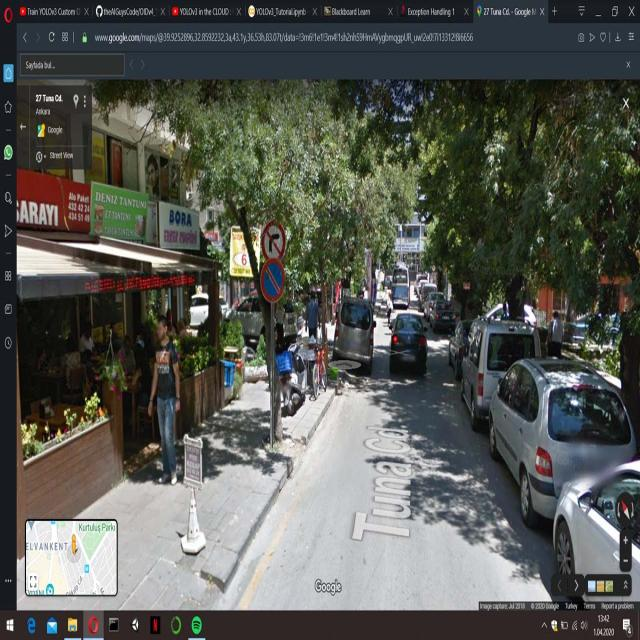parkyasak: (260, 259, 286, 302)
sagadonulmez: (262, 222, 286, 262)
